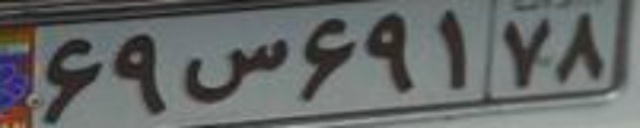1: (435, 8, 466, 89)
6: (39, 37, 105, 123), (297, 17, 354, 106)
7: (503, 16, 550, 88)
8: (552, 11, 609, 82)
9: (113, 33, 170, 114), (367, 12, 417, 90)
sin: (179, 39, 291, 103)
